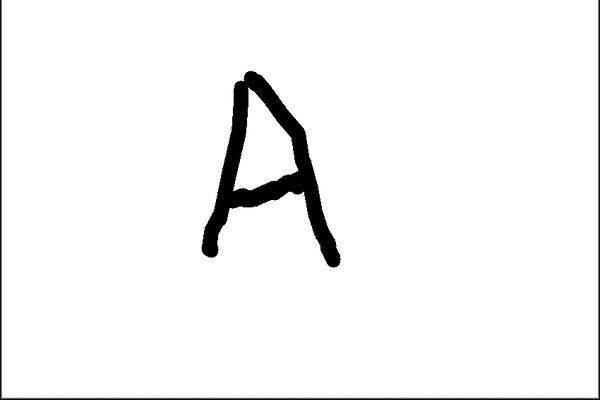A: (189, 58, 361, 273)
